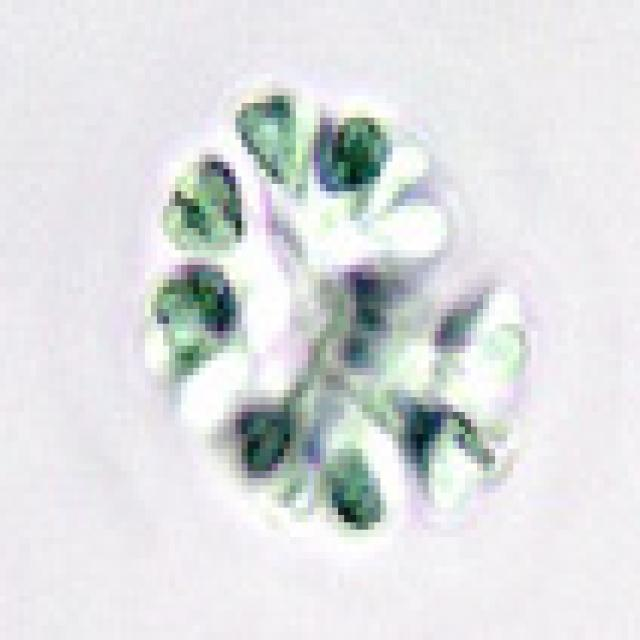Blue Green Algae: (151, 147, 247, 265), (308, 103, 392, 206), (151, 265, 235, 368), (235, 88, 302, 192), (235, 397, 290, 478)
